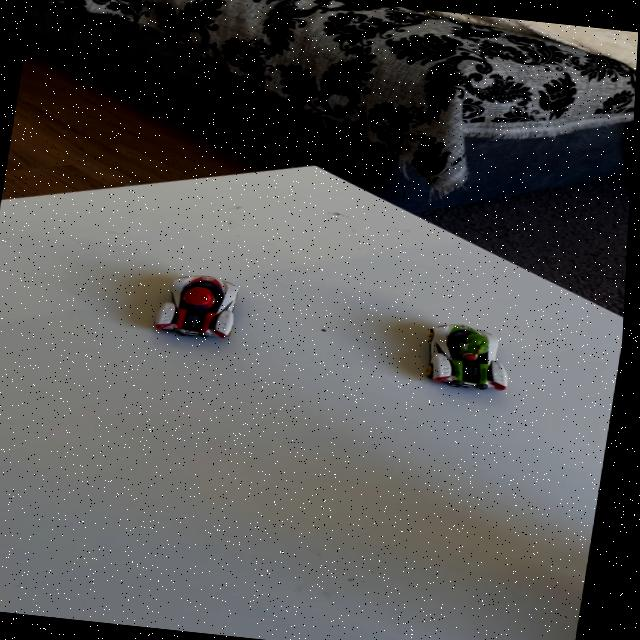mario: (132, 257, 266, 354)
yoshi: (400, 306, 530, 408)
